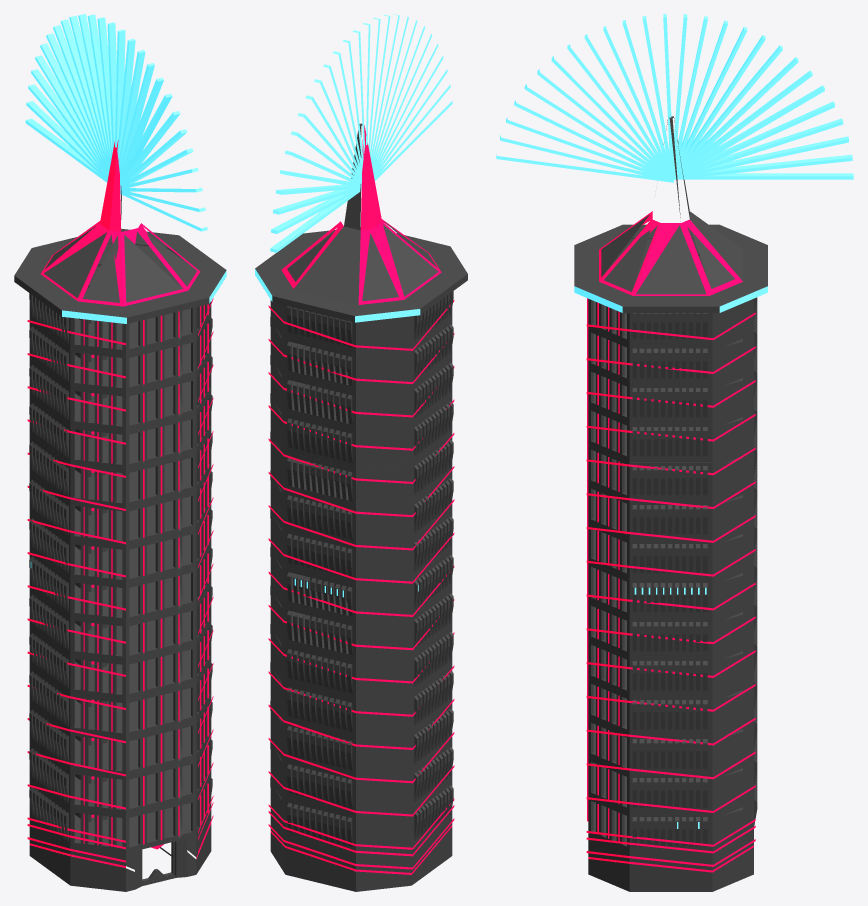
File: torre-cy2.glb
3 renders of one model, left to right at view 1: azimuth 30°, elevation 25°; view 2: azimuth 150°, elevation 25°; view 3: azimuth 270°, elevation 25°, orthographic.
Parts seen in each view (by area): view 1: body_1, body_2, rays_0, neon_0, body_0; view 2: body_1, body_0, body_2, neon_0, rays_0; view 3: body_1, body_2, rays_0, body_0, neon_0.
Boxes of the visible parts, box(x1,y1,x2,y2) form: body_1: box(14, 186, 226, 882); body_2: box(29, 261, 211, 891); rays_0: box(25, 14, 226, 567); neon_0: box(27, 140, 213, 867); body_0: box(29, 293, 212, 841); body_1: box(255, 123, 467, 853); body_0: box(270, 291, 453, 846); body_2: box(270, 295, 452, 891); neon_0: box(268, 125, 454, 874); rays_0: box(255, 14, 452, 597); body_1: box(574, 116, 767, 852); body_2: box(588, 252, 753, 891); rays_0: box(496, 14, 853, 828); body_0: box(632, 297, 757, 846); neon_0: box(586, 211, 755, 872).
Bounding box in the file's own units: 1.99 × 9.54 × 3.68.
